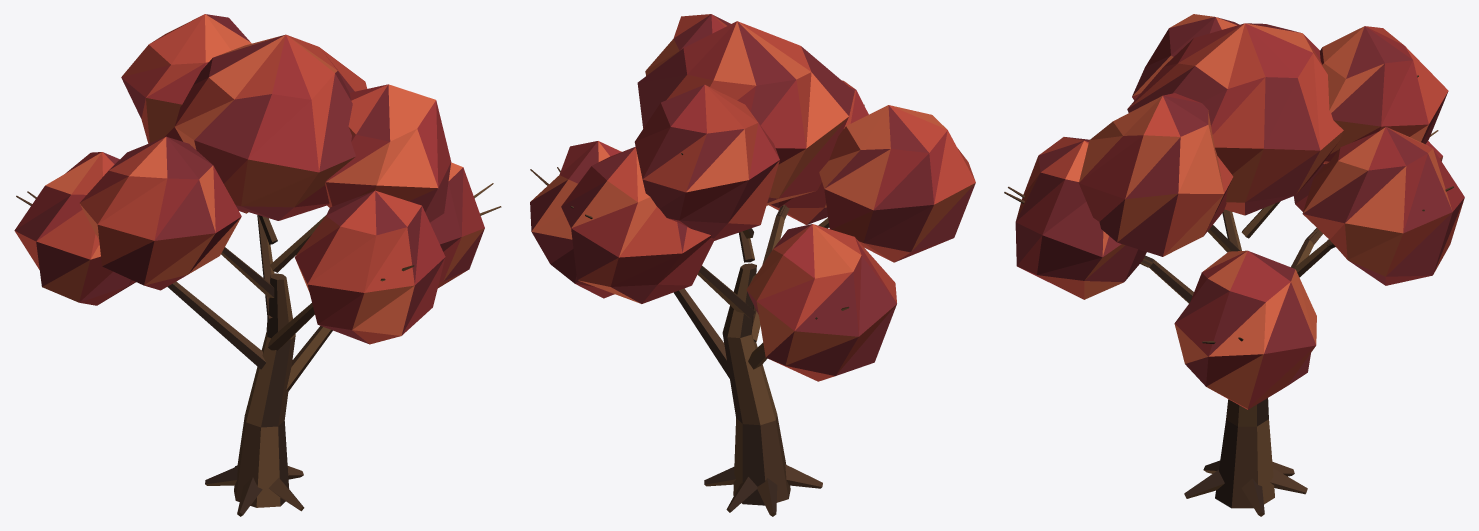
Rendered from tree_maple_crimson.obj.
3 renders of one model, left to right at view 1: azimuth 30°, elevation 25°; view 2: azimuth 150°, elevation 25°; view 3: azimuth 270°, elevation 25°, orthographic. The views are drawn at different scales.
Visible parts, largest first — view 1: tree_maple_crimson; view 2: tree_maple_crimson; view 3: tree_maple_crimson.
Boxes of the visible parts, bbox=[...] form: tree_maple_crimson: bbox=[14, 14, 501, 516]; tree_maple_crimson: bbox=[530, 14, 975, 516]; tree_maple_crimson: bbox=[1004, 14, 1464, 516].
Size of the model in its own units: 427 by 450 by 386.
Materials: 1 (1 with a texture image).
